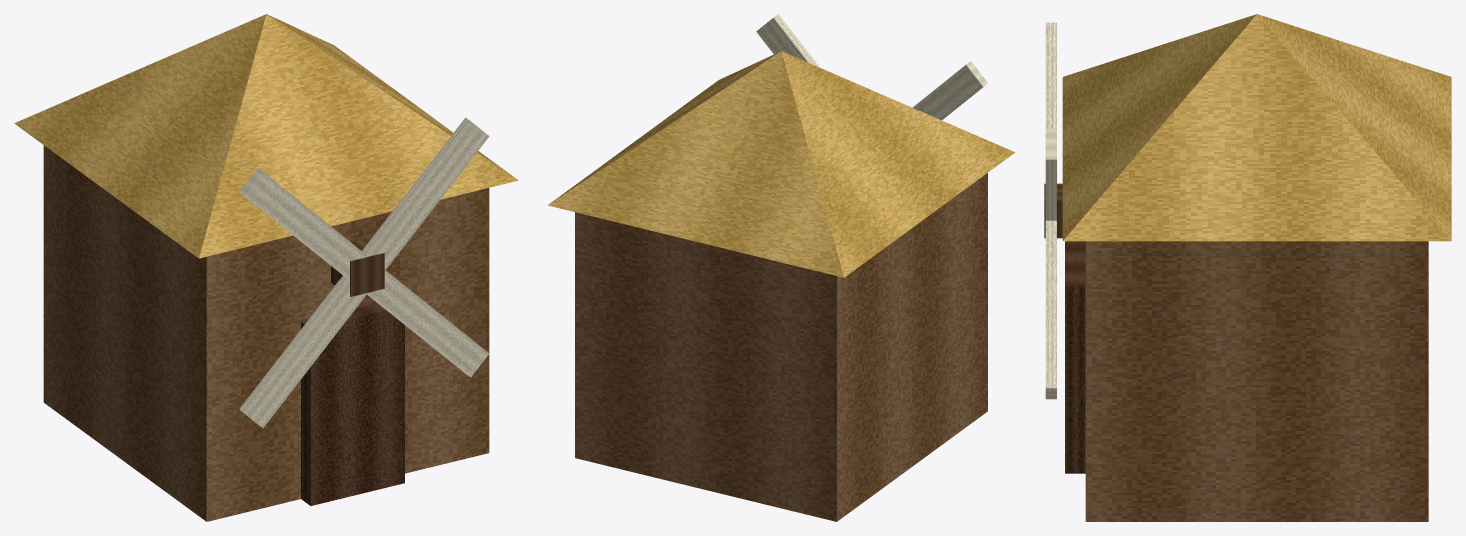
Rendered from farm.glb.
3 views of the same model, side by side, from view 1: azimuth 30°, elevation 25°; view 2: azimuth 150°, elevation 25°; view 3: azimuth 270°, elevation 25° (orthographic). The views are drawn at different scales.
Visible parts, largest first — view 1: Farm; view 2: Farm; view 3: Farm.
Part boxes in pixels (<box>): Farm: <box>14,14,518,521</box>; Farm: <box>547,14,1014,521</box>; Farm: <box>1044,14,1451,521</box>.
Size of the model in its own units: 1.7 by 2.1 by 1.78.
1 material, 1 textured.
